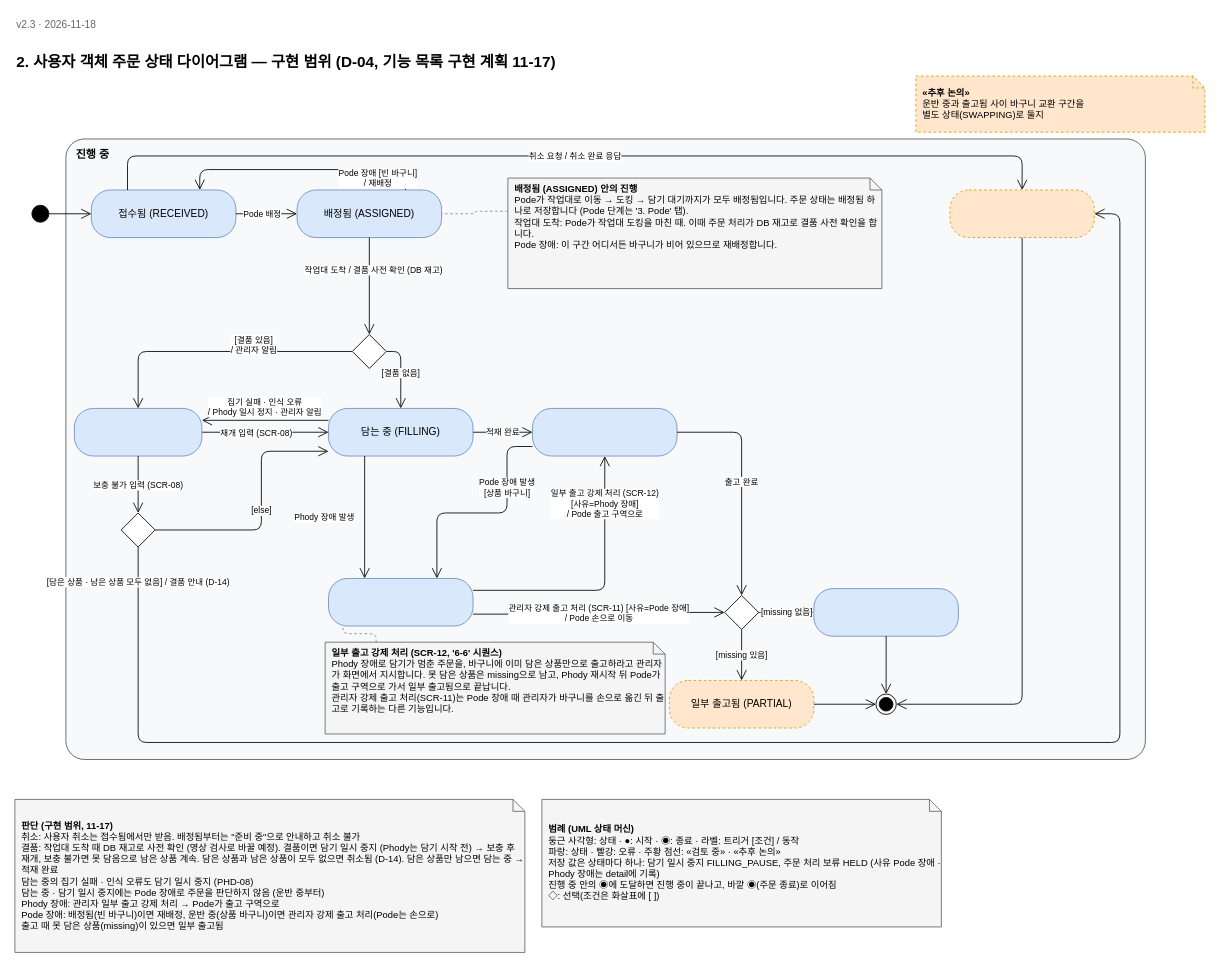
Image size: 1220x967. Some labels were removed from this diagram. The shapes that lost their labels are listed below. From the top down, each one's centre as x and y in pixels, then its label:
At point (1021, 213): "취소됨 (CANCELLED)".
At point (138, 432): "담기 일시 중지 (FILLING_PAUSE)".
At point (604, 432): "운반 중 (TRANSPORTING)".
At point (400, 602): "주문 처리 보류 (HELD)".
At point (885, 612): "출고됨 (SHIPPED)".
